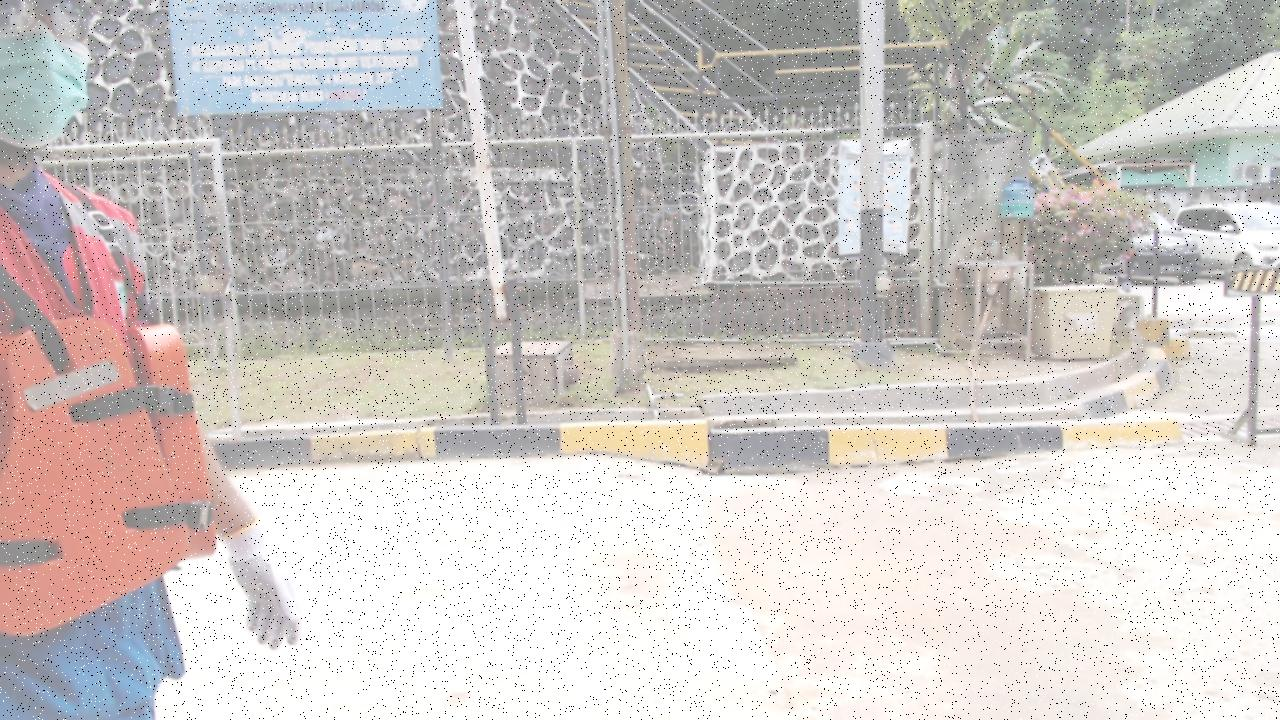glasses: (1, 0, 101, 40)
gloves: (220, 517, 315, 664)
mask: (3, 27, 99, 158)
vest: (0, 320, 219, 633)
